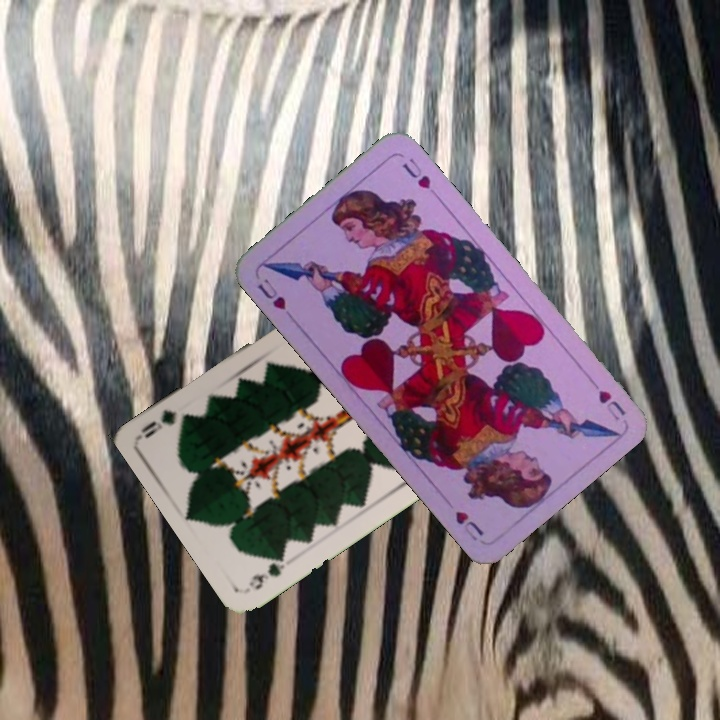G9: (244, 548, 289, 593)
HU: (253, 274, 289, 313), (594, 385, 628, 423)
